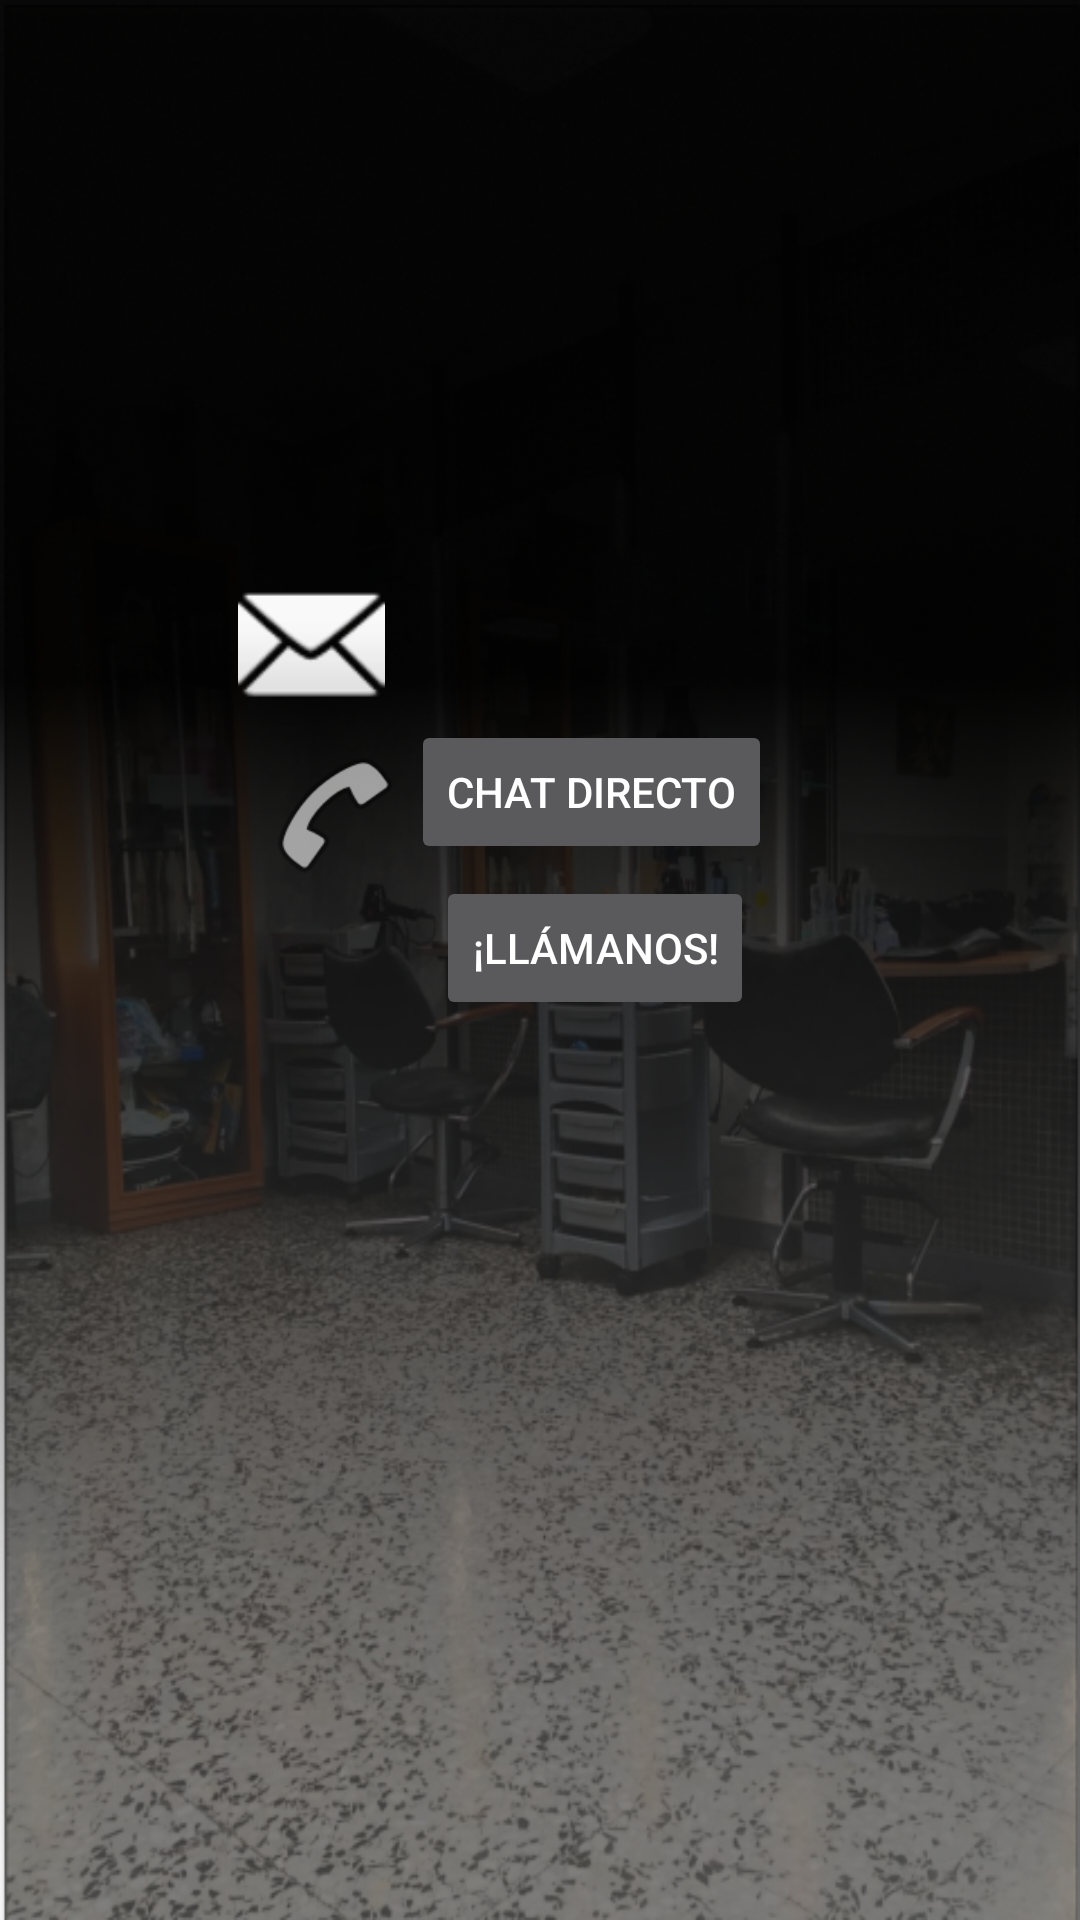

Icons on this 1080*1920 Android screen, each with its box as (x1, y1, x2, y2):
call: (261, 762, 408, 888)
send: (238, 592, 385, 697)
